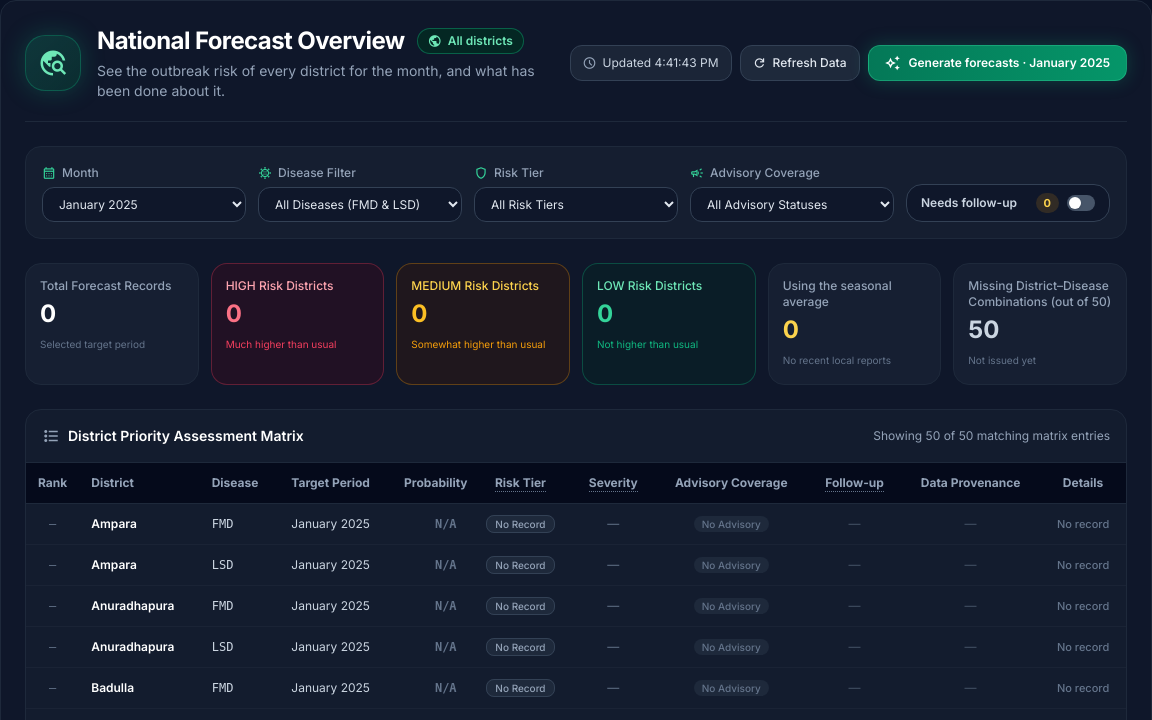
Test case: DaphNationalForecastOverview Component › renders the empty-state icon as find_in_page and not dataset_with_doubt
Expected: the heading "District Priority Assessment Matrix" is shown, left=68, top=426, right=304, bottom=446
Select "HIGH Risk Only" in the dropdown labelled "Risk Tier" at [576, 204], box left=474, top=187, right=678, bottom=222
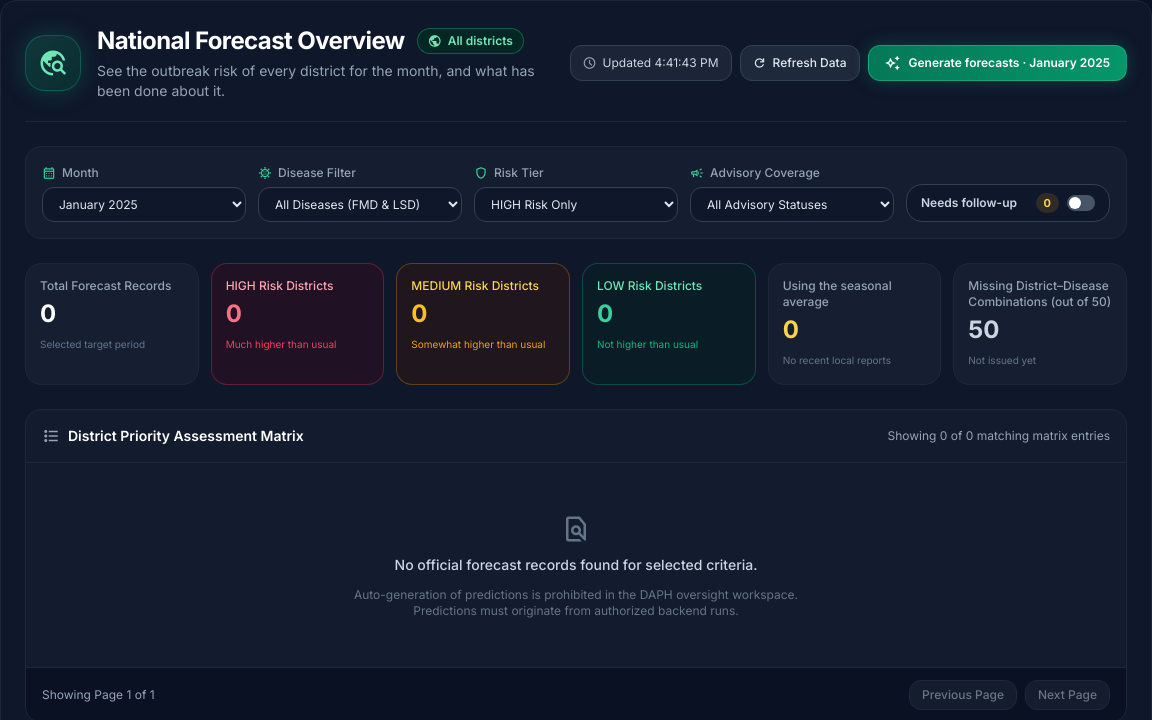
Result: the 11th text "find_in_page" is shown at left=561, top=511, right=591, bottom=547
